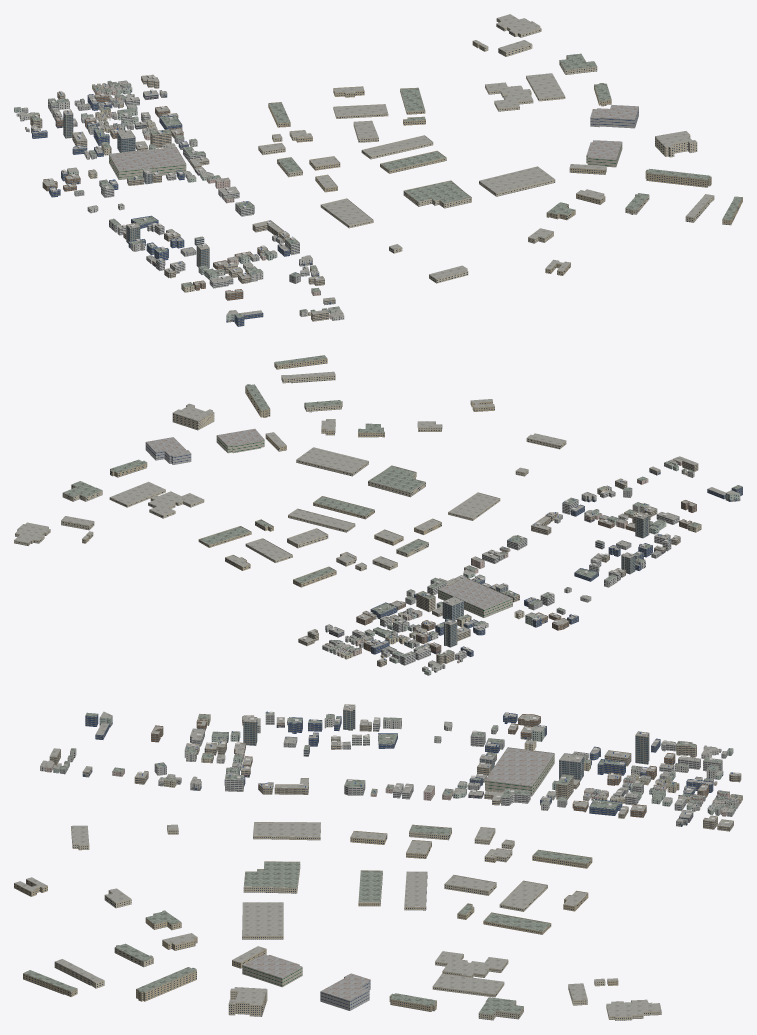
The model's file is ArahaTown_Block_E00000_S01024.gltf.
The picture shows the model from 3 angles, top to bottom: view 1: azimuth 30°, elevation 25°; view 2: azimuth 150°, elevation 25°; view 3: azimuth 270°, elevation 25°; orthographic projection. The views are drawn at different scales.
Visible parts, largest first — view 1: ArahaTown_Block_E00000_S01024; view 2: ArahaTown_Block_E00000_S01024; view 3: ArahaTown_Block_E00000_S01024.
Part boxes in pixels (left/top/right/bottom): ArahaTown_Block_E00000_S01024: left=14, top=14, right=742, bottom=326; ArahaTown_Block_E00000_S01024: left=14, top=355, right=742, bottom=675; ArahaTown_Block_E00000_S01024: left=14, top=704, right=742, bottom=1020.
Size of the model in its own units: 1053 by 46.62 by 1059.
Materials: 27 (23 with a texture image).
